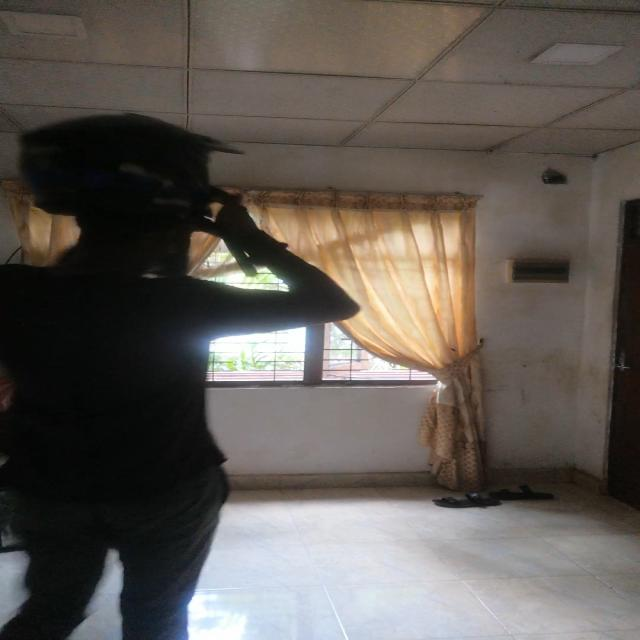Helmet_Wearer: (13, 122, 254, 292)
Person: (0, 115, 335, 640)
